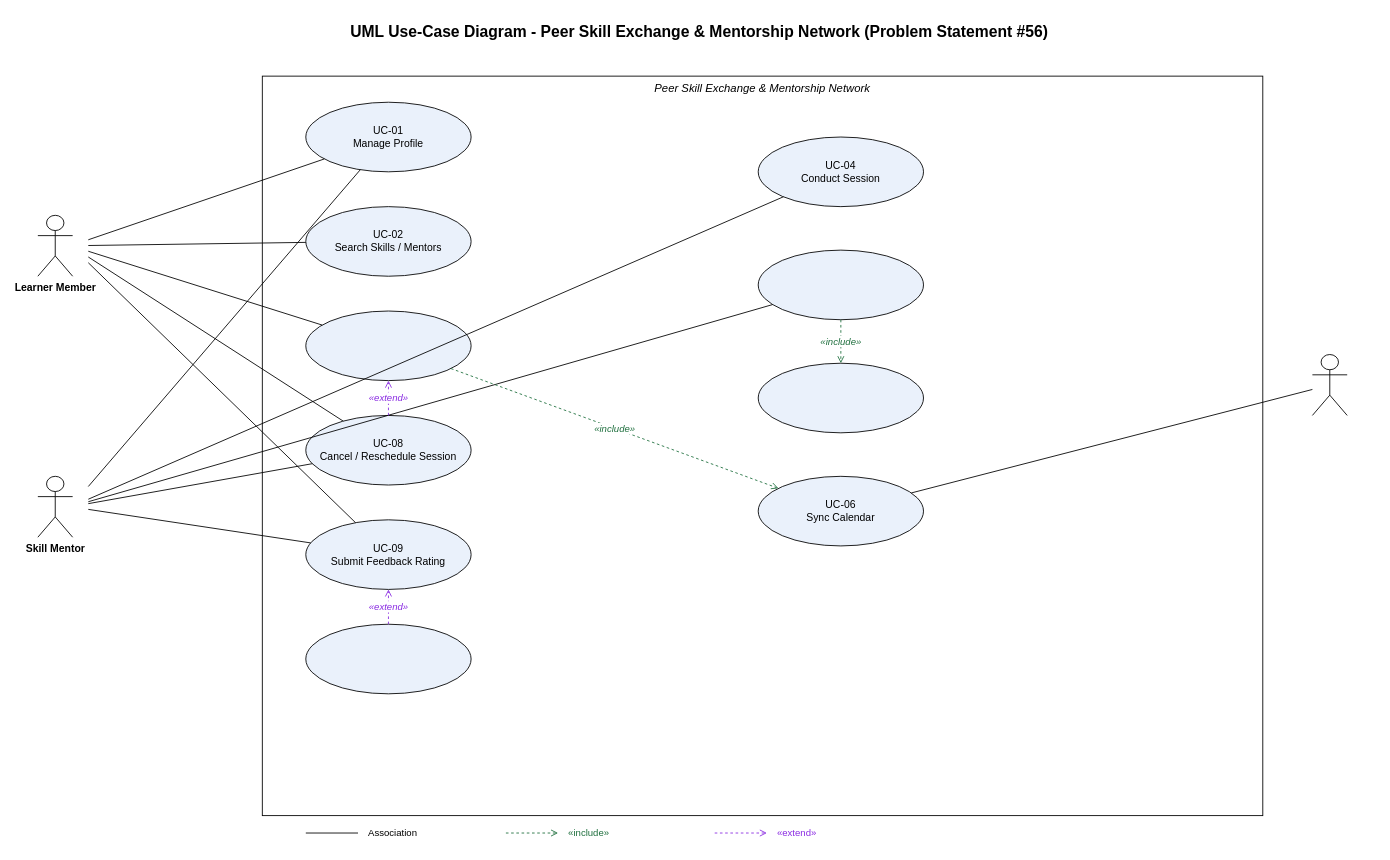
This 1390x860 diagram has some shape labels left out. Each missing label, with the centre of its shape:
Calendar System «external system»: [1329,384]
UC-03 Book Session: [388,345]
UC-05 Verify Session Completion: [840,284]
UC-07 Update Time-Credit Balance: [840,397]
UC-10 Report Dispute: [388,658]
